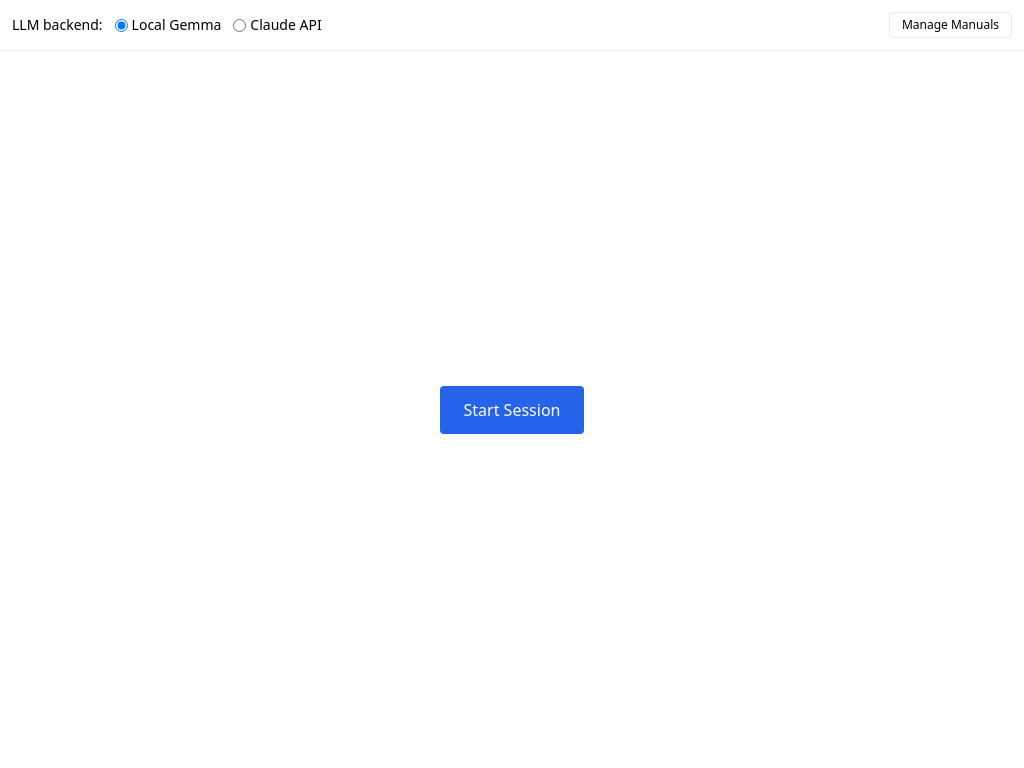
Test: App › renders settings, chat, and all 5 graph nodes; disables chat until the socket opens
The width and height of the screenshot is (1024, 768).
Click the button "Start Session" at (512, 410), box [440,386,584,434]
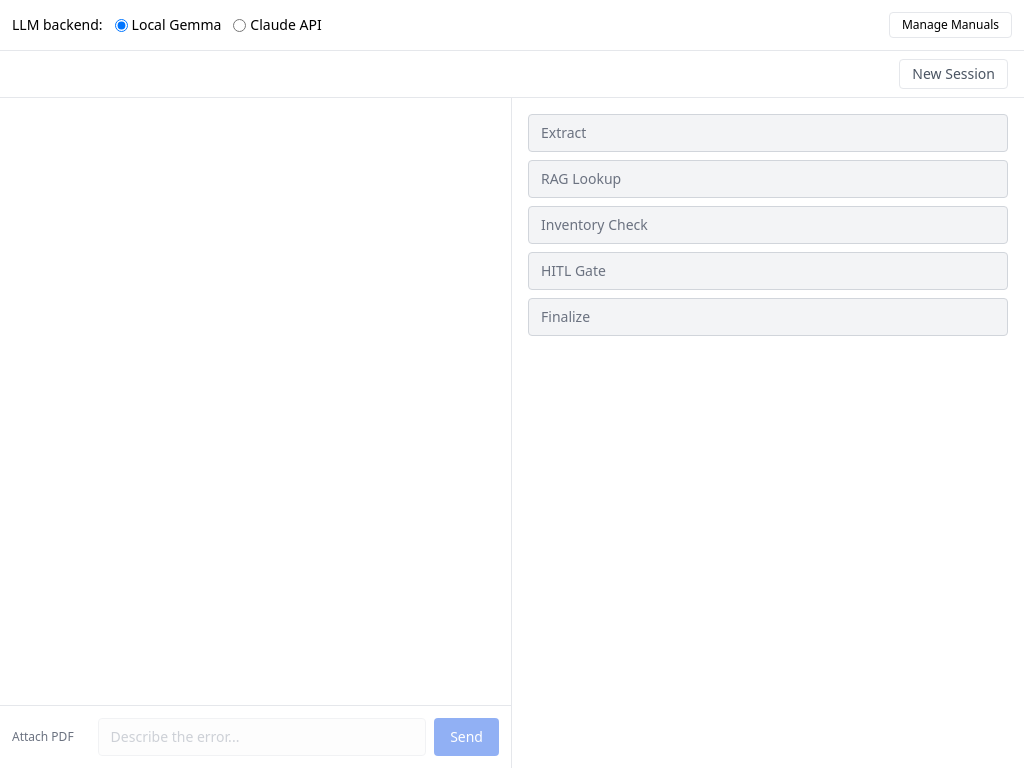
Result: the button "Send" is disabled at [434,718,499,756]
Result: the text "Extract" is shown at [528,114,1008,152]
Result: the text "Inventory Check" is shown at [528,206,1008,244]
